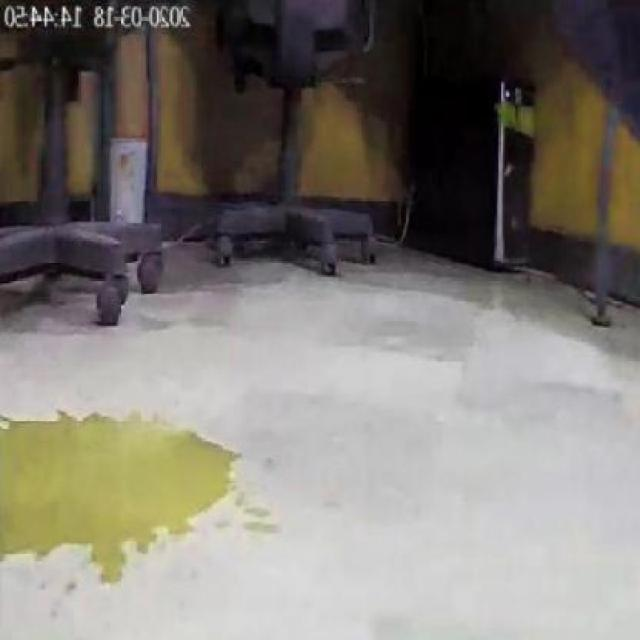spillage: (0, 415, 240, 625)
